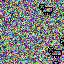sheep: (38, 3, 54, 17), (47, 45, 62, 58), (60, 36, 64, 47)
